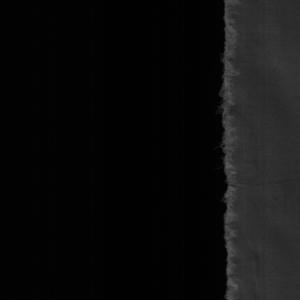Damage: (214, 1, 257, 300)
